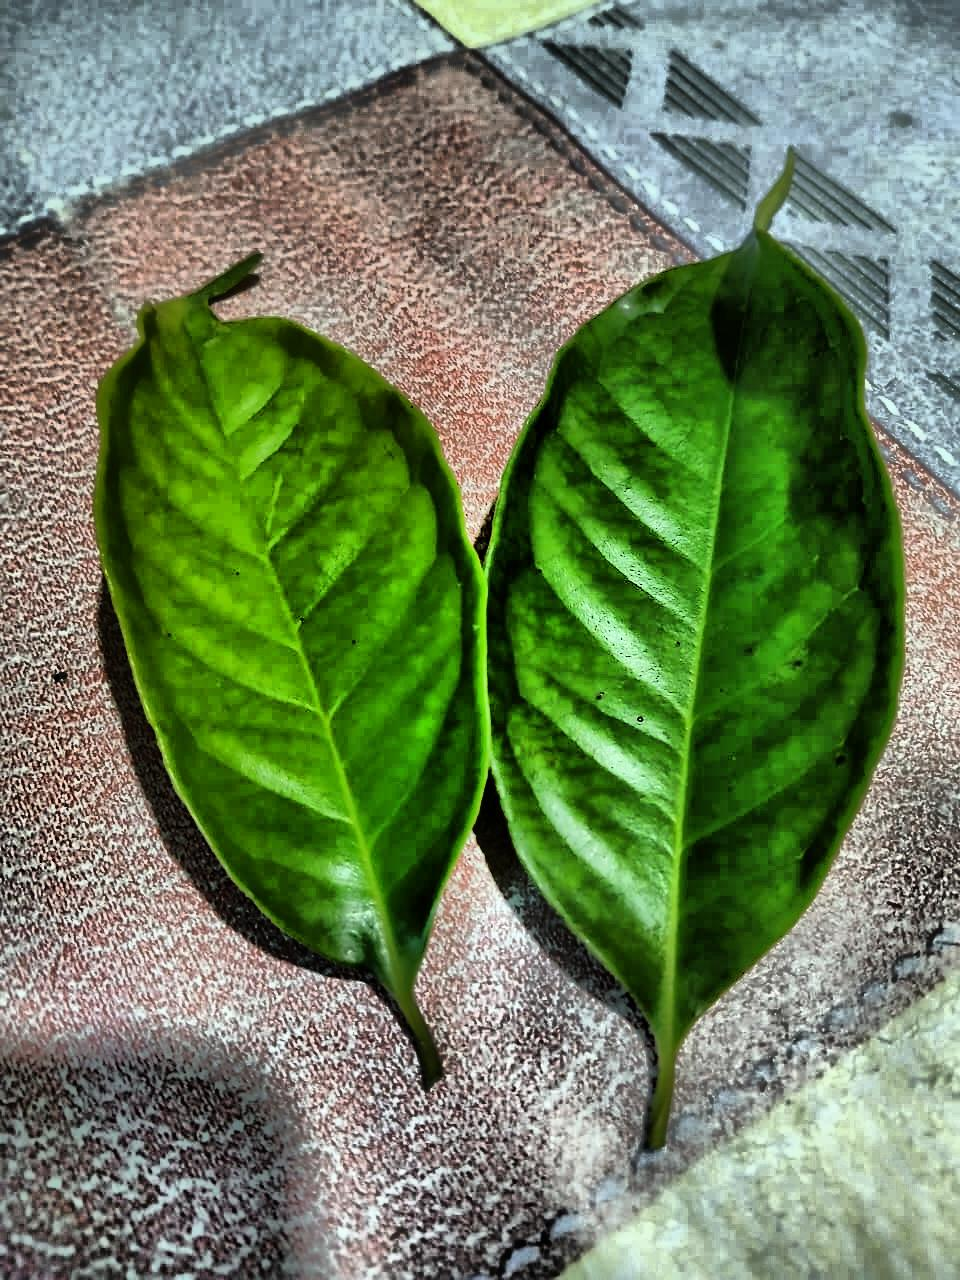daun salam: (490, 186, 902, 1144), (96, 259, 488, 1079)
